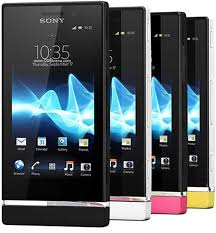sony: (1, 1, 109, 225)
